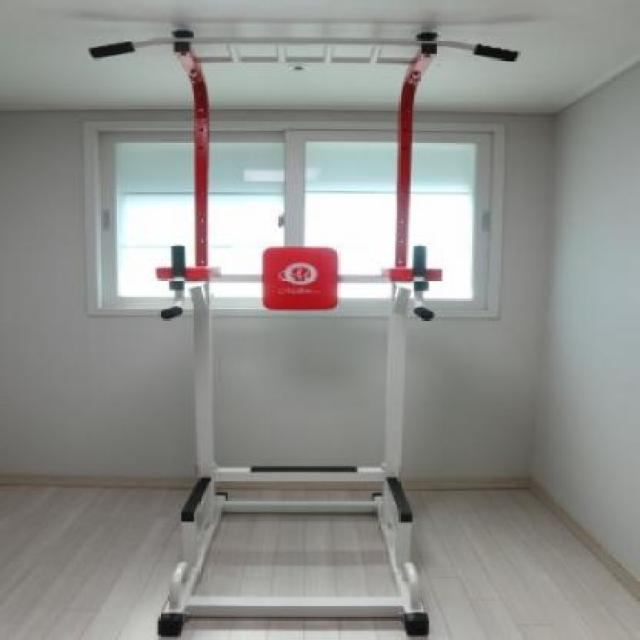chinning dipping: (88, 28, 524, 634)
